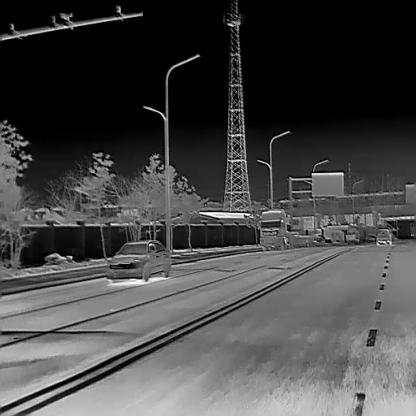car: (104, 238, 170, 282), (257, 209, 312, 251), (375, 228, 392, 246), (345, 226, 360, 243), (312, 234, 326, 246), (363, 233, 376, 241)
